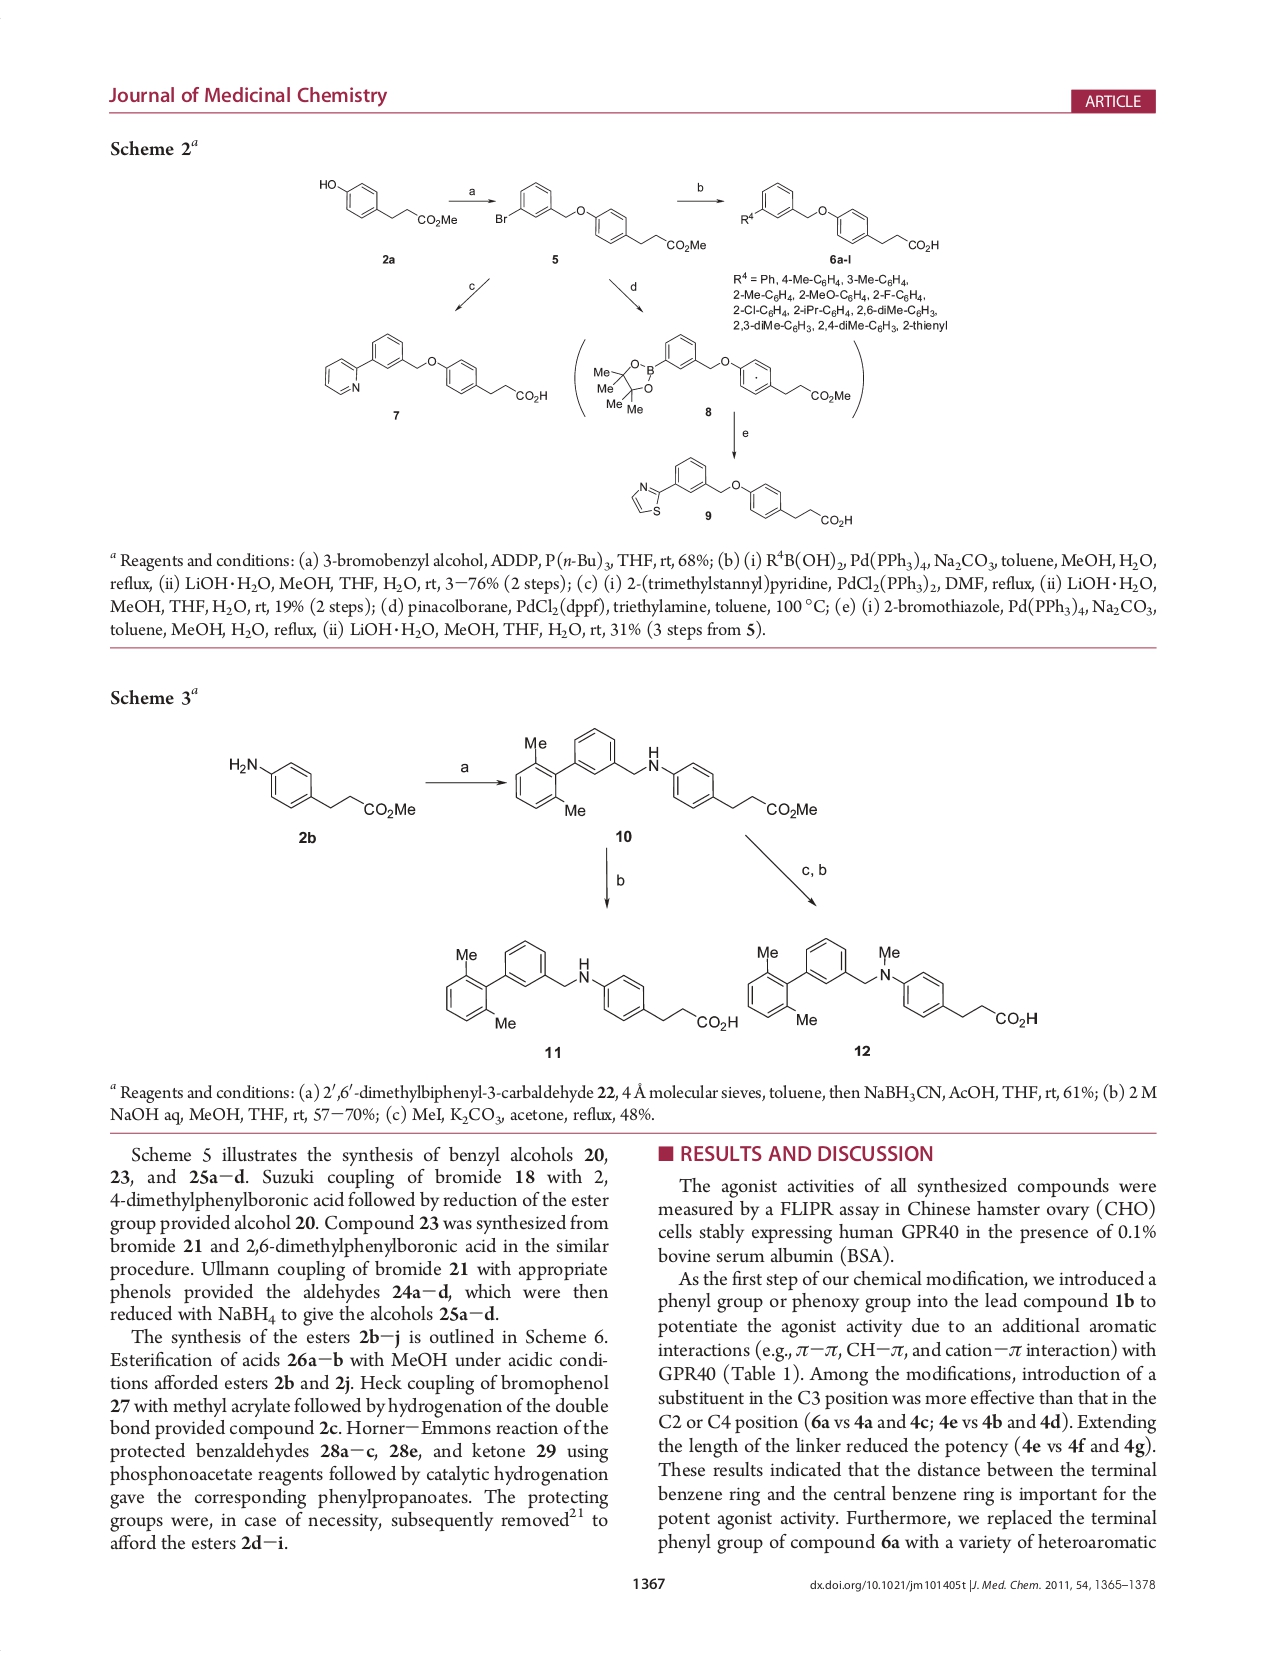exist_molecular: (742, 930, 1041, 1035), (513, 723, 821, 825), (442, 938, 742, 1039), (589, 328, 852, 416), (626, 453, 856, 535), (320, 327, 551, 406), (221, 743, 418, 826), (493, 178, 709, 251), (737, 180, 942, 253), (316, 174, 459, 233)
